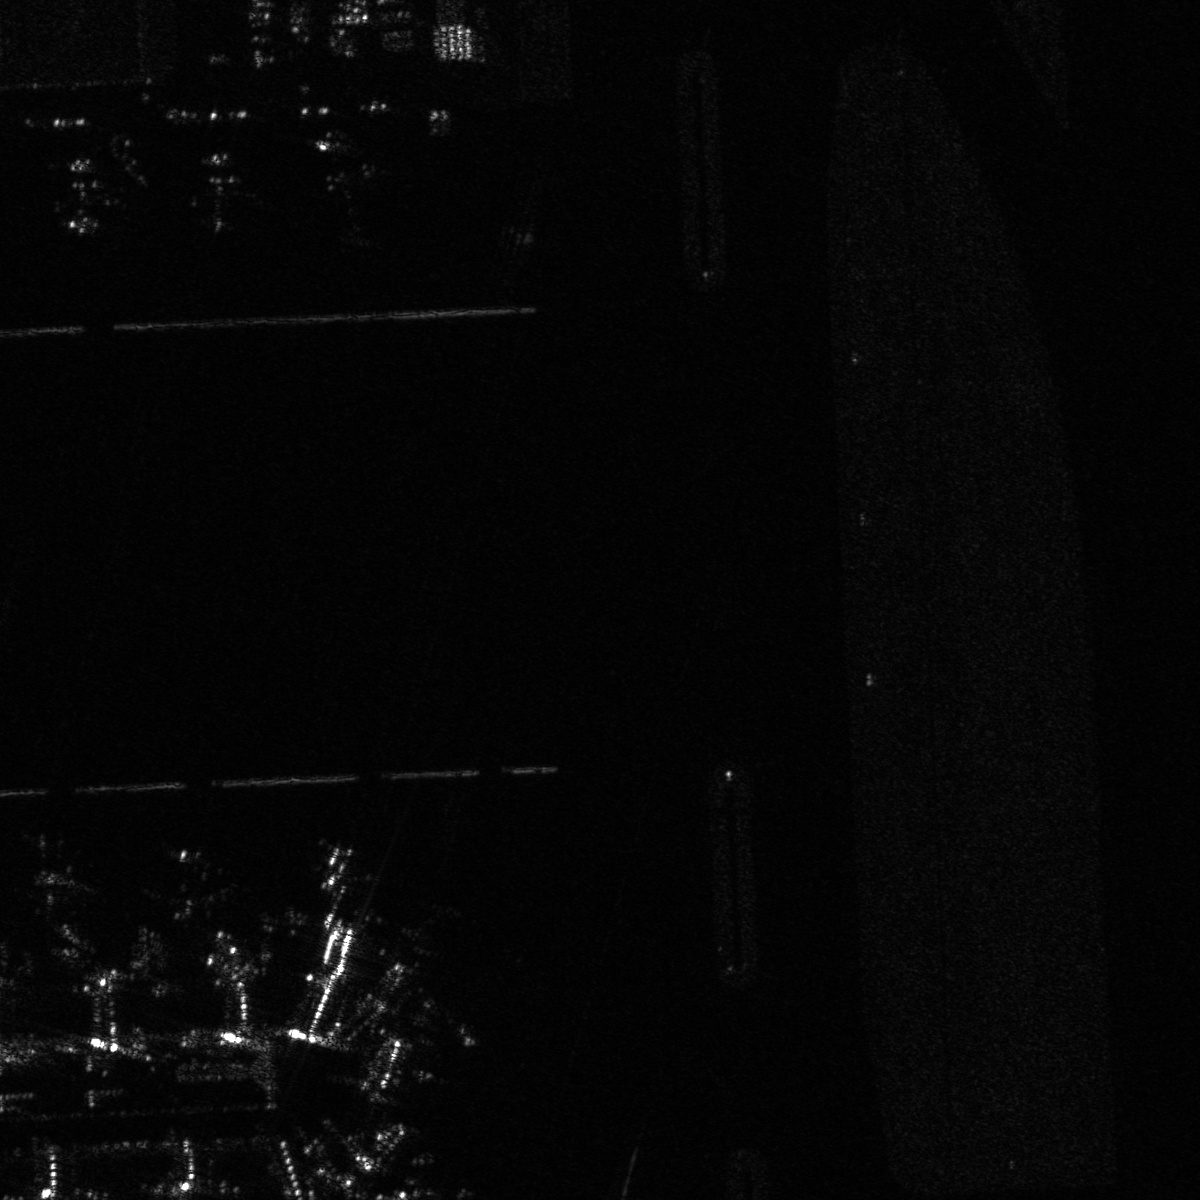A220: (386, 986, 462, 1049), (386, 908, 449, 976)
A320/321: (129, 840, 251, 925), (1, 827, 100, 910), (296, 836, 384, 896), (365, 1149, 458, 1199)
Boeing737: (168, 141, 271, 240), (305, 126, 386, 237)
other: (45, 151, 127, 241)
